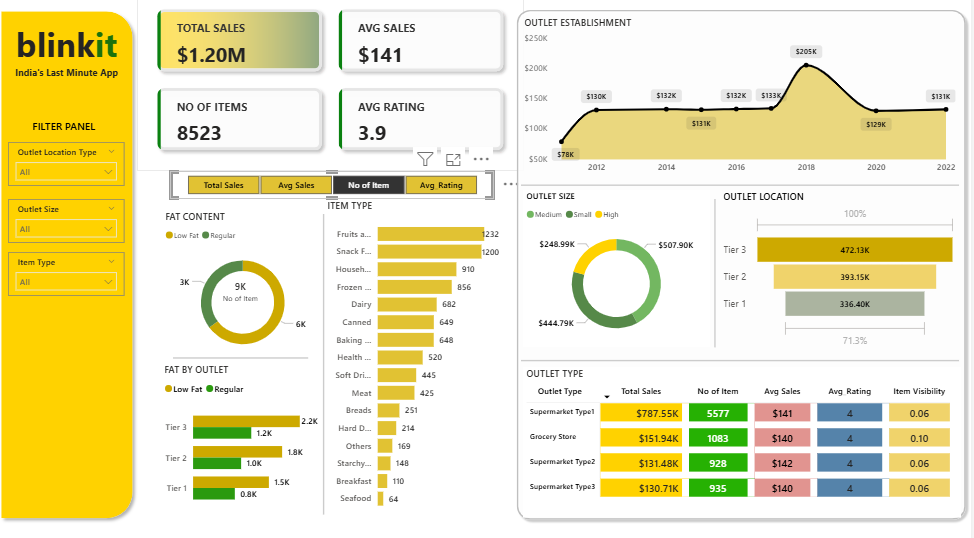

What the dashboard file says about the page in this screenshot:
{"tool":"powerbi","page":{"name":"Page 1","canvas":[1400,800],"ordinal":0},"visuals":[{"type":"shape","box":[1.2,22.5,206.2,745],"z":0},{"type":"textbox","box":[14.3,40,180,80],"z":1000},{"type":"textbox","box":[14.3,105.7,180,48.6],"z":2000},{"type":"cardVisual","fields":{"Data":["BlinkIT Grocery Data.Total Sales","BlinkIT Grocery Data.Avg Sales","BlinkIT Grocery Data.No of Item","BlinkIT Grocery Data.Avg_Rating"]},"box":[205,0,554.3,261.4],"z":3000},{"type":"shape","box":[742.5,22.5,657.5,745],"z":4000},{"type":"donutChart","title":"FAT CONTENT","fields":{"Y":["BlinkIT Grocery Data.No of Item"],"Category":["BlinkIT Grocery Data.Item Fat Content"]},"box":[240.9,316.5,231.5,220.5],"z":5000},{"type":"slicer","fields":{"Values":["Metrics.Metrics"]},"box":[252.9,261.4,464.3,40],"z":6000},{"type":"cardVisual","fields":{"Data":["BlinkIT Grocery Data.No of Item"]},"box":[295,400,116.2,68.8],"z":7000},{"type":"clusteredBarChart","title":" FAT BY OUTLET","fields":{"Y":["BlinkIT Grocery Data.No of Item"],"Category":["BlinkIT Grocery Data.Outlet Location Type"],"Series":["BlinkIT Grocery Data.Item Fat Content"]},"box":[238.8,536.2,230,220],"z":8000},{"type":"shape","box":[256.2,518.8,193.8,20],"z":9000},{"type":"shape","box":[458.8,322.5,27.5,431.2],"z":10000},{"type":"barChart","title":"ITEM TYPE","fields":{"Y":["BlinkIT Grocery Data.No of Item"],"Category":["BlinkIT Grocery Data.Item Type"]},"box":[472.5,301.2,256.2,455],"z":11000},{"type":"lineChart","title":"OUTLET ESTABLISHMENT","fields":{"Category":["BlinkIT Grocery Data.Outlet Establishment Year"],"Y":["BlinkIT Grocery Data.Total Sales"]},"box":[755.9,39.4,628.3,234.6],"z":12000},{"type":"donutChart","title":"OUTLET SIZE","fields":{"Y":["BlinkIT Grocery Data.Total Sales"],"Category":["BlinkIT Grocery Data.Outlet Size"]},"box":[759.1,288.2,267.7,225.2],"z":13000},{"type":"shape","box":[755.9,263,628.3,37.8],"z":14000},{"type":"shape","box":[1026.8,300.8,14.2,212.6],"z":15000},{"type":"funnel","title":"OUTLET LOCATION","fields":{"Y":["Sum(BlinkIT Grocery Data.Sales)"],"Category":["BlinkIT Grocery Data.Outlet Location Type"]},"box":[1040.9,288.2,343.3,231.5],"z":16000},{"type":"shape","box":[755.9,522.8,628.3,18.9],"z":17000},{"type":"pivotTable","title":"OUTLET TYPE","fields":{"Rows":["BlinkIT Grocery Data.Outlet Type"],"Values":["BlinkIT Grocery Data.Total Sales","BlinkIT Grocery Data.No of Item","BlinkIT Grocery Data.Avg Sales","BlinkIT Grocery Data.Avg_Rating","Avg(BlinkIT Grocery Data.Item Visibility)"]},"box":[759.1,541.7,628.3,215.7],"z":18000},{"type":"slicer","fields":{"Values":["BlinkIT Grocery Data.Outlet Location Type"]},"box":[20.5,218.9,166.9,63],"z":19000},{"type":"slicer","fields":{"Values":["BlinkIT Grocery Data.Outlet Size"]},"box":[20.5,300.8,166.9,63],"z":20000},{"type":"slicer","fields":{"Values":["BlinkIT Grocery Data.Item Type"]},"box":[20.5,376.4,166.9,63],"z":21000},{"type":"textbox","box":[50.4,181.1,107.1,37.8],"z":22000}]}

Visuals, with their boxes on the page's 1400x800 design canvas (x1, y1, x2, y2). These are canvas units, not pixel positions in the 974x538 screenshot, which may show the page scaled, cropped or inside an application window:
shape: select_region(1, 22, 207, 768)
textbox: select_region(14, 40, 194, 120)
textbox: select_region(14, 106, 194, 154)
cardVisual - BlinkIT Grocery Data.Total Sales x BlinkIT Grocery Data.Avg Sales: select_region(205, 0, 759, 261)
shape: select_region(742, 22, 1400, 768)
"FAT CONTENT" donutChart: select_region(241, 316, 472, 537)
slicer - Metrics.Metrics: select_region(253, 261, 717, 301)
cardVisual - BlinkIT Grocery Data.No of Item: select_region(295, 400, 411, 469)
" FAT BY OUTLET" clusteredBarChart: select_region(239, 536, 469, 756)
shape: select_region(256, 519, 450, 539)
shape: select_region(459, 322, 486, 754)
"ITEM TYPE" barChart: select_region(472, 301, 729, 756)
"OUTLET ESTABLISHMENT" lineChart: select_region(756, 39, 1384, 274)
"OUTLET SIZE" donutChart: select_region(759, 288, 1027, 513)
shape: select_region(756, 263, 1384, 301)
shape: select_region(1027, 301, 1041, 513)
"OUTLET LOCATION" funnel: select_region(1041, 288, 1384, 520)
shape: select_region(756, 523, 1384, 542)
"OUTLET TYPE" pivotTable: select_region(759, 542, 1387, 757)
slicer - BlinkIT Grocery Data.Outlet Location Type: select_region(20, 219, 187, 282)
slicer - BlinkIT Grocery Data.Outlet Size: select_region(20, 301, 187, 364)
slicer - BlinkIT Grocery Data.Item Type: select_region(20, 376, 187, 439)
textbox: select_region(50, 181, 158, 219)
